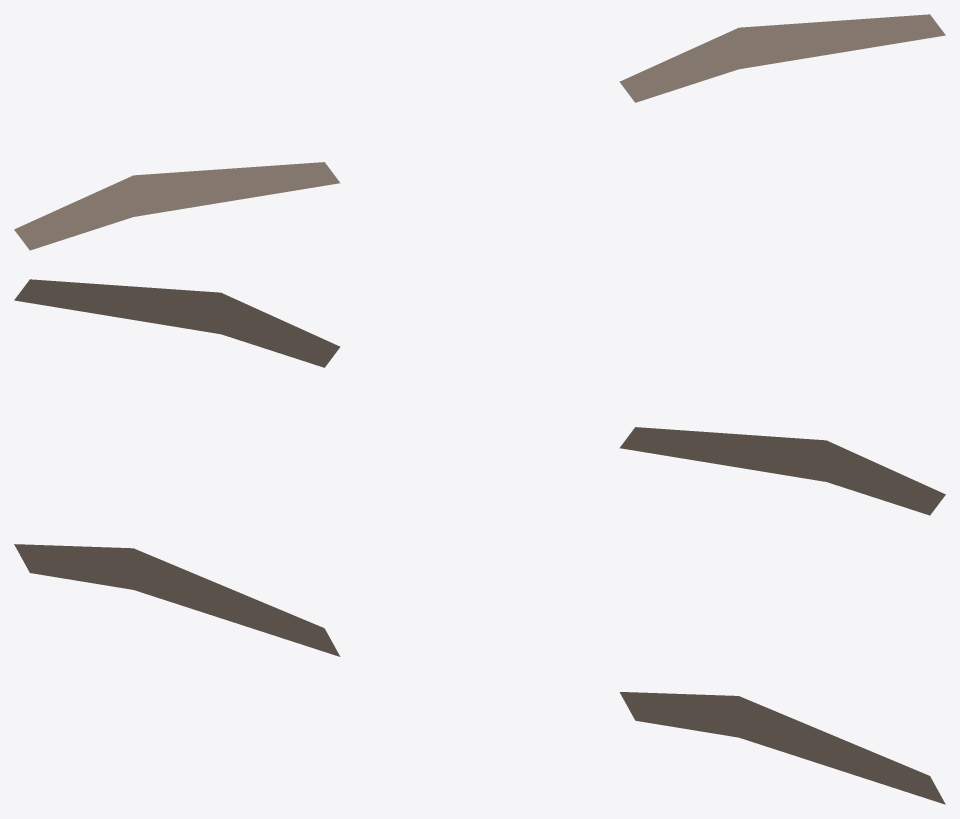
The model's file is pawn-head-03_04_eyebrows-v0.0.12.glb.
3 renders of one model, top to bottom at view 1: azimuth 30°, elevation 25°; view 2: azimuth 150°, elevation 25°; view 3: azimuth 330°, elevation 25°, orthographic.
Visible parts, largest first — view 1: Brow_neutral_R, Brow_neutral_L; view 2: Brow_neutral_R, Brow_neutral_L; view 3: Brow_neutral_L, Brow_neutral_R.
Boxes of the visible parts, <box> form: Brow_neutral_R: <box>619,14,945,102</box>; Brow_neutral_L: <box>14,162,340,250</box>; Brow_neutral_R: <box>14,279,340,367</box>; Brow_neutral_L: <box>619,427,945,515</box>; Brow_neutral_L: <box>14,544,340,656</box>; Brow_neutral_R: <box>619,692,945,804</box>.
Size of the model in its own units: 0.117 by 0.007 by 0.
